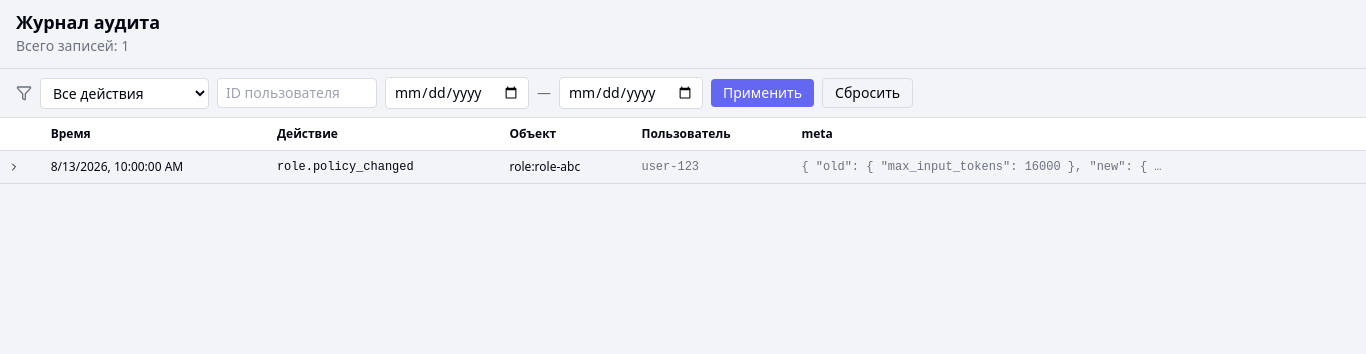
Test: AuditLogPage › expands row to show meta JSON on click
Click the text "role.policy_changed": (385, 167) x1=269 y1=150 x2=502 y2=184
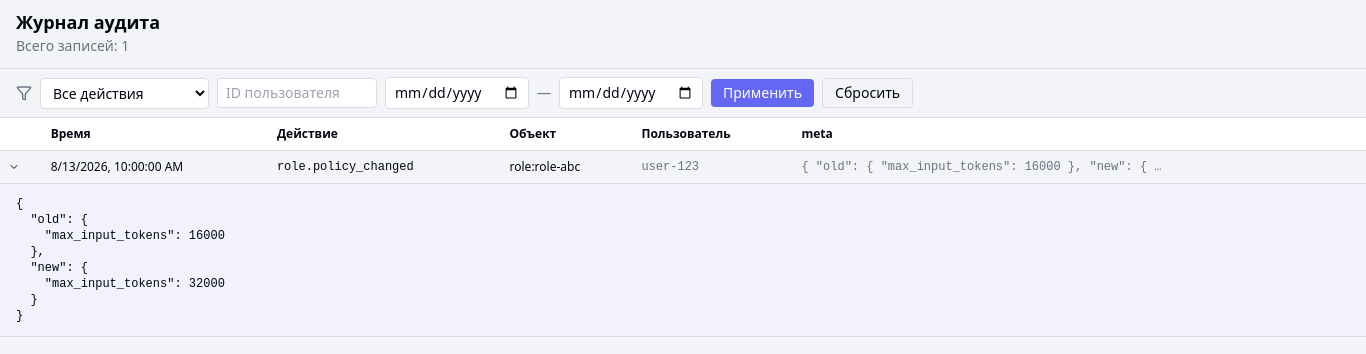
Now the text "\"max_input_tokens\": 16000" is shown, box x1=16 y1=197 x2=225 y2=323
Now the text "\"max_input_tokens\": 32000" is shown, box x1=16 y1=197 x2=225 y2=323
